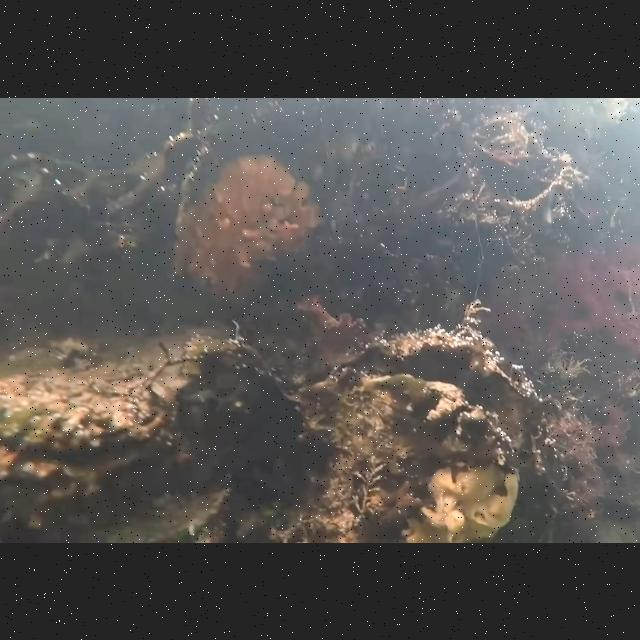Oyster-Closed: (168, 116, 324, 310)
Oyster-Open: (284, 328, 536, 542), (0, 322, 248, 502)
